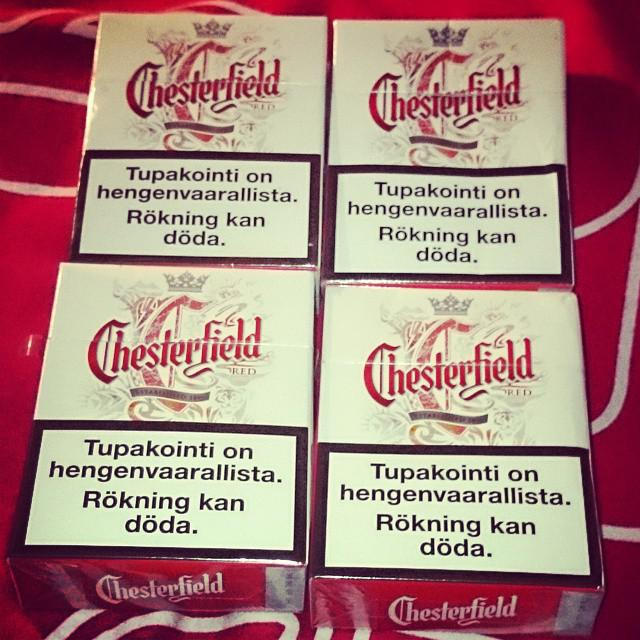chesterfield_red: (319, 286, 587, 579), (44, 265, 312, 556), (328, 22, 571, 279), (87, 11, 319, 261)
